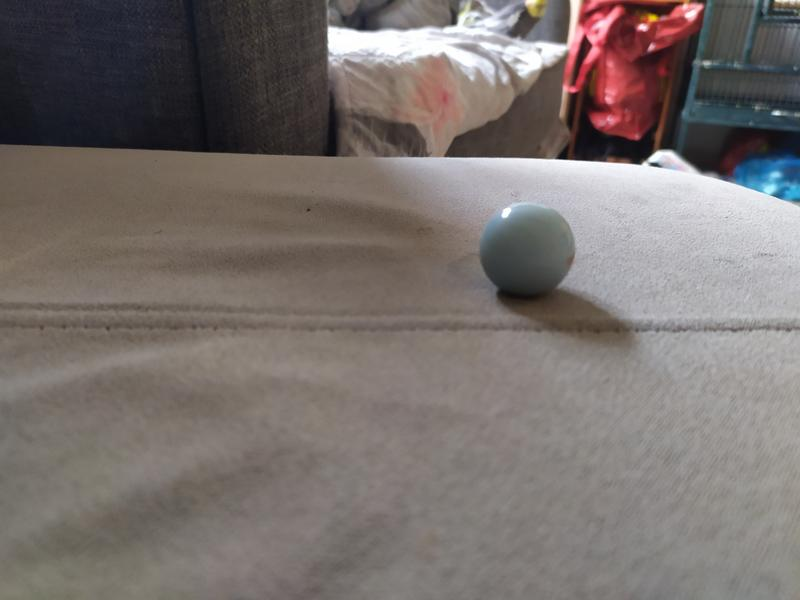Warning: (476, 198, 580, 301)
